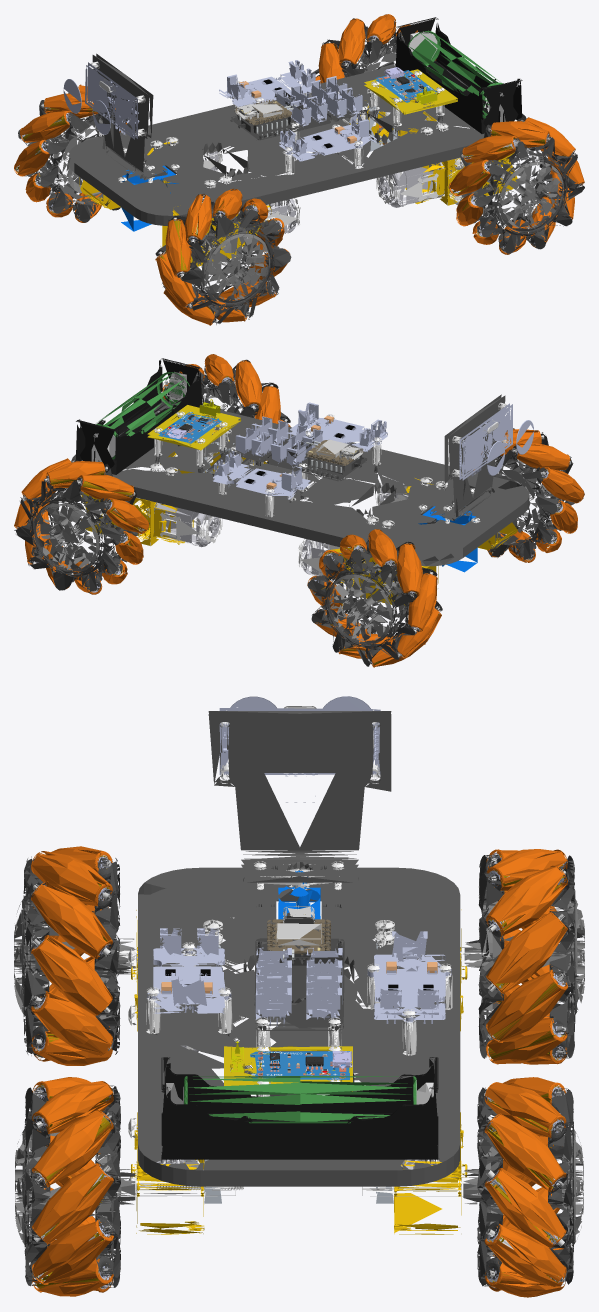
File: robot-med.glb
3 views of the same model, one above another, from view 1: azimuth 30°, elevation 25°; view 2: azimuth 150°, elevation 25°; view 3: azimuth 270°, elevation 25° (orthographic). The views are drawn at different scales.
Visible parts, largest first — view 1: c8, c34, c10, c12, c35, c32, c19, c4, c31, c18, c7, c33 (+7 smaller); view 2: c8, c34, c10, c12, c35, c32, c4, c19, c18, c31, c7, c28 (+7 smaller); view 3: c8, c34, c10, c12, c32, c35, c31, c19, c4, c33, c28, c17 (+6 smaller).
Part boxes in pixels (x1=…): c8: x1=69, y1=53, x2=526, y2=225; c34: x1=14, y1=14, x2=584, y2=325; c10: x1=15, y1=18, x2=584, y2=324; c12: x1=17, y1=35, x2=582, y2=323; c35: x1=40, y1=38, x2=563, y2=302; c32: x1=396, y1=17, x2=522, y2=133; c19: x1=79, y1=99, x2=517, y2=268; c4: x1=203, y1=73, x2=505, y2=253; c31: x1=408, y1=30, x2=502, y2=118; c18: x1=203, y1=112, x2=452, y2=238; c7: x1=364, y1=69, x2=457, y2=114; c33: x1=16, y1=35, x2=565, y2=318; c8: x1=71, y1=394, x2=529, y2=566; c34: x1=14, y1=354, x2=584, y2=667; c10: x1=14, y1=359, x2=584, y2=666; c12: x1=16, y1=377, x2=562, y2=665; c35: x1=34, y1=380, x2=561, y2=643; c32: x1=75, y1=358, x2=201, y2=474; c4: x1=92, y1=377, x2=408, y2=594; c19: x1=81, y1=430, x2=517, y2=605; c18: x1=146, y1=460, x2=409, y2=582; c31: x1=96, y1=372, x2=189, y2=459; c7: x1=147, y1=405, x2=241, y2=450; c28: x1=158, y1=412, x2=221, y2=443; c8: x1=138, y1=711, x2=460, y2=1186; c34: x1=31, y1=846, x2=567, y2=1297; c10: x1=23, y1=855, x2=575, y2=1287; c12: x1=33, y1=696, x2=565, y2=1289; c32: x1=161, y1=1057, x2=438, y2=1159; c35: x1=14, y1=890, x2=584, y2=1255; c31: x1=184, y1=1076, x2=416, y2=1123; c19: x1=131, y1=909, x2=467, y2=1234; c4: x1=116, y1=947, x2=491, y2=1196; c33: x1=33, y1=854, x2=564, y2=1288; c28: x1=250, y1=1051, x2=349, y2=1079; c17: x1=32, y1=706, x2=566, y2=1286.
Size of the model in its own units: 0.2163 by 0.0991 by 0.1595.
